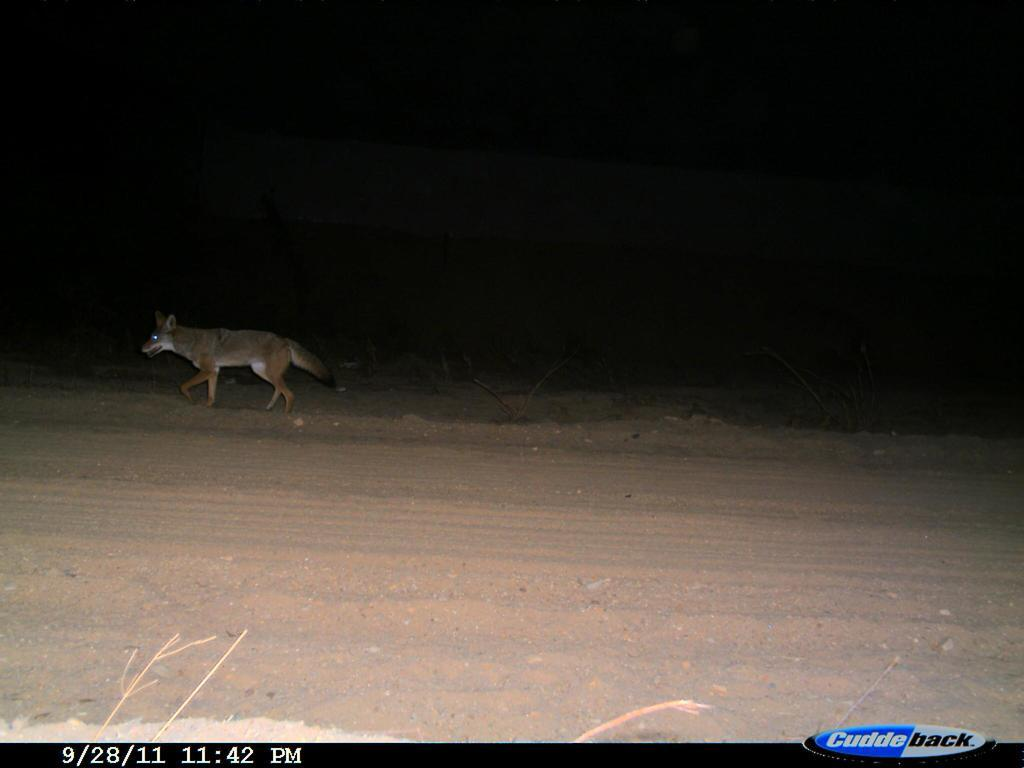coyote: (136, 304, 340, 418)
